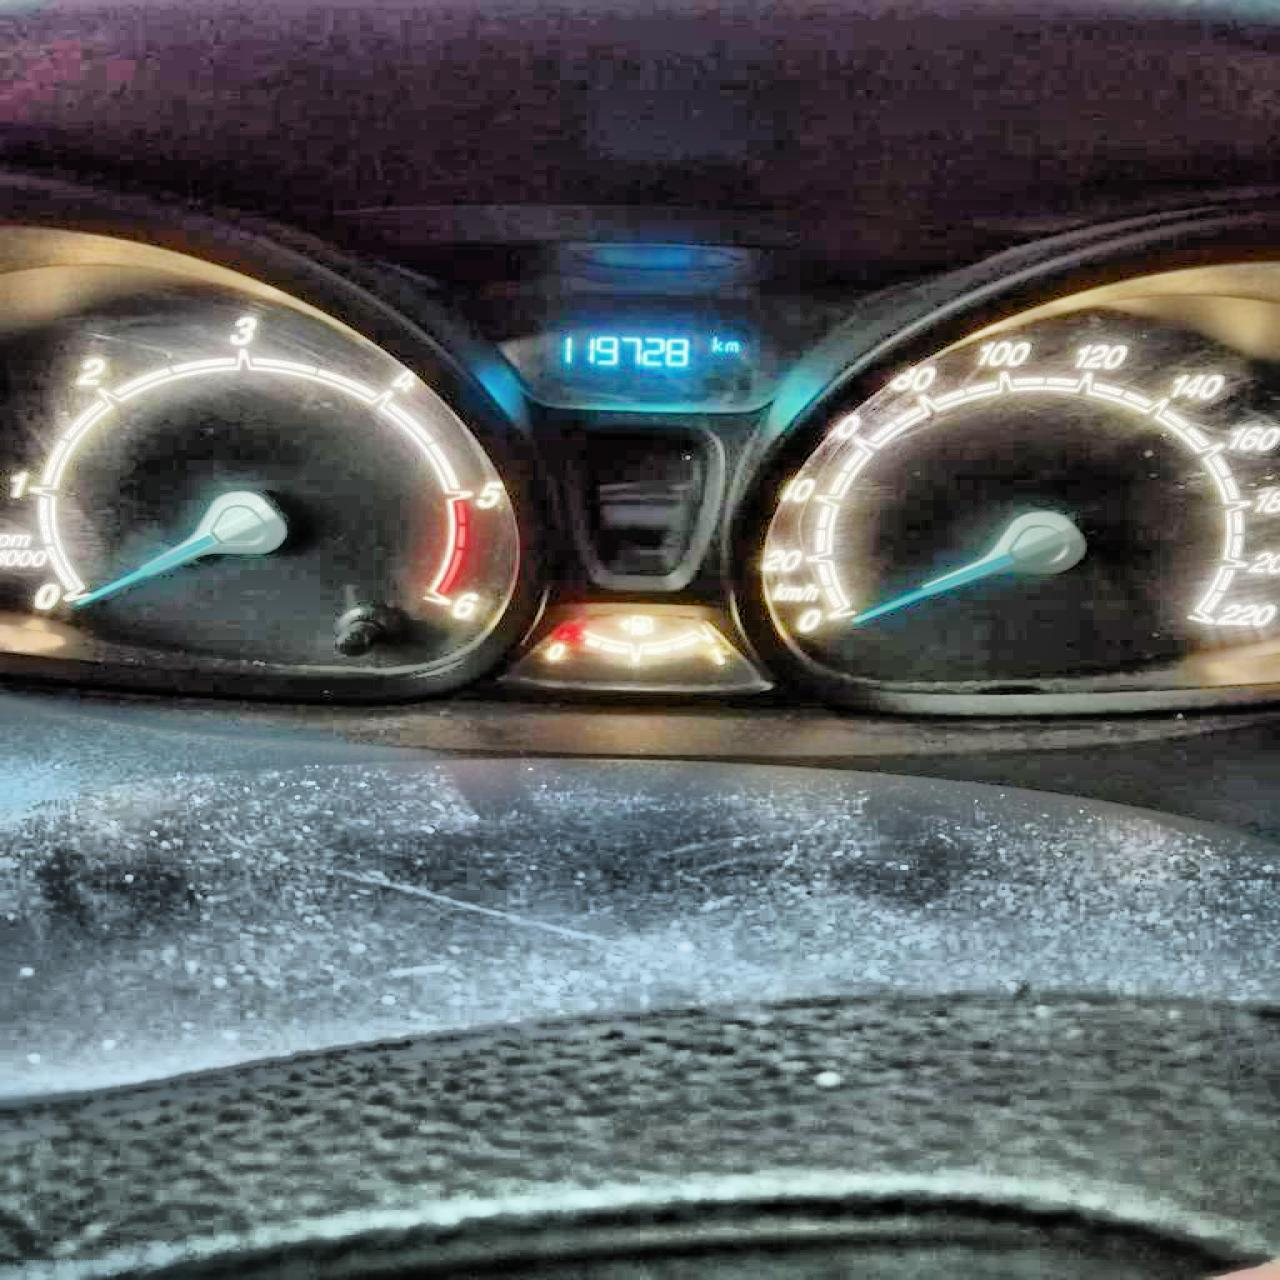1: (564, 335, 573, 365), (587, 335, 593, 365)
2: (641, 335, 663, 365)
7: (620, 335, 640, 365)
8: (666, 336, 687, 366)
9: (595, 334, 617, 365)
X: (710, 334, 722, 352), (722, 340, 738, 350)
odometer: (538, 320, 749, 388)
